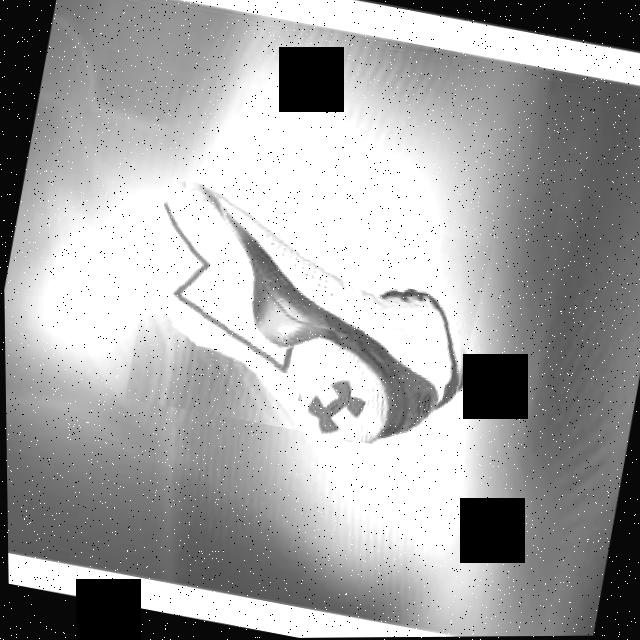shoe: (121, 170, 496, 462)
